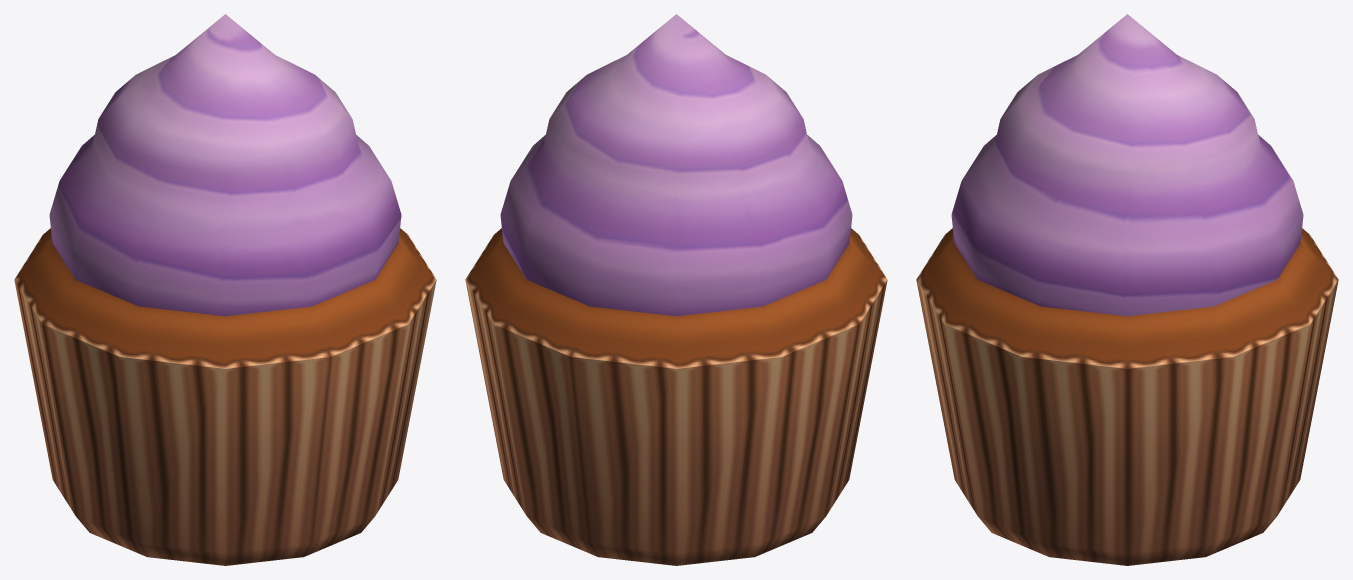
The model's file is 009-Cupcakes_010.FBX.
3 views of the same model, side by side, from view 1: azimuth 30°, elevation 25°; view 2: azimuth 150°, elevation 25°; view 3: azimuth 270°, elevation 25° (orthographic).
Parts seen in each view (by area): view 1: 009-Cupcakes_010; view 2: 009-Cupcakes_010; view 3: 009-Cupcakes_010.
Part boxes in pixels (left/top/right/bottom): 009-Cupcakes_010: left=14, top=14, right=436, bottom=565; 009-Cupcakes_010: left=465, top=14, right=887, bottom=565; 009-Cupcakes_010: left=916, top=14, right=1338, bottom=565.
Size of the model in its own units: 12.34 by 15.65 by 12.34.
